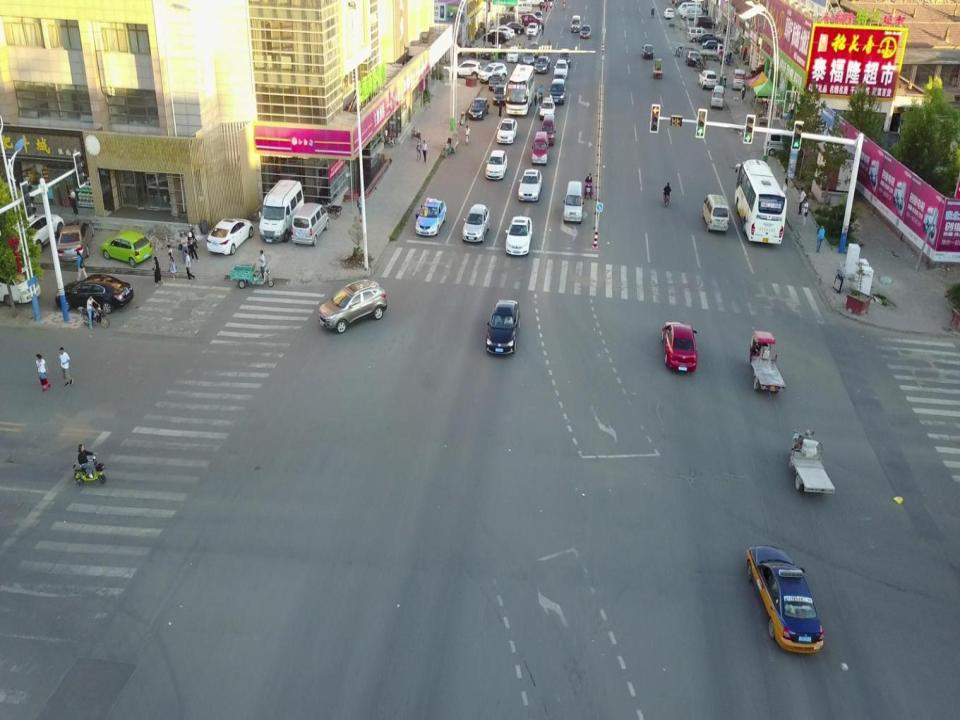bus: (734, 159, 787, 245), (504, 63, 534, 115)
car: (745, 544, 825, 652), (318, 278, 388, 333), (56, 274, 134, 314), (486, 299, 521, 357), (100, 229, 153, 267), (662, 321, 698, 373), (56, 218, 96, 264), (206, 217, 253, 255), (0, 265, 40, 306), (415, 198, 446, 236), (461, 204, 490, 243), (505, 216, 533, 255), (518, 169, 542, 201), (485, 150, 507, 178), (478, 61, 507, 82), (450, 59, 482, 78), (495, 118, 517, 144), (468, 97, 490, 120), (697, 70, 718, 92), (538, 97, 556, 120), (479, 44, 506, 58), (484, 30, 511, 44), (489, 26, 516, 40), (500, 21, 524, 34), (696, 33, 724, 44), (534, 56, 550, 74), (520, 14, 544, 26), (492, 85, 506, 105), (554, 59, 568, 79), (557, 48, 571, 67), (505, 46, 520, 63), (488, 72, 502, 90), (551, 72, 566, 88), (521, 48, 535, 65), (679, 6, 700, 17), (701, 40, 724, 50), (685, 51, 700, 66), (641, 43, 654, 60), (526, 22, 538, 36), (579, 24, 591, 38), (528, 42, 539, 56), (663, 7, 675, 19), (535, 10, 543, 22)
truck: (700, 43, 725, 61)
van: (258, 180, 305, 244), (15, 214, 63, 258), (291, 202, 329, 246), (701, 194, 729, 234), (562, 182, 584, 224), (764, 132, 800, 155), (530, 132, 549, 166), (548, 78, 566, 106), (541, 114, 556, 147), (710, 86, 725, 111), (731, 68, 747, 90), (682, 5, 702, 20), (677, 2, 702, 14), (687, 28, 708, 42), (692, 16, 716, 28), (498, 12, 516, 26), (514, 1, 532, 13), (570, 14, 581, 33)
